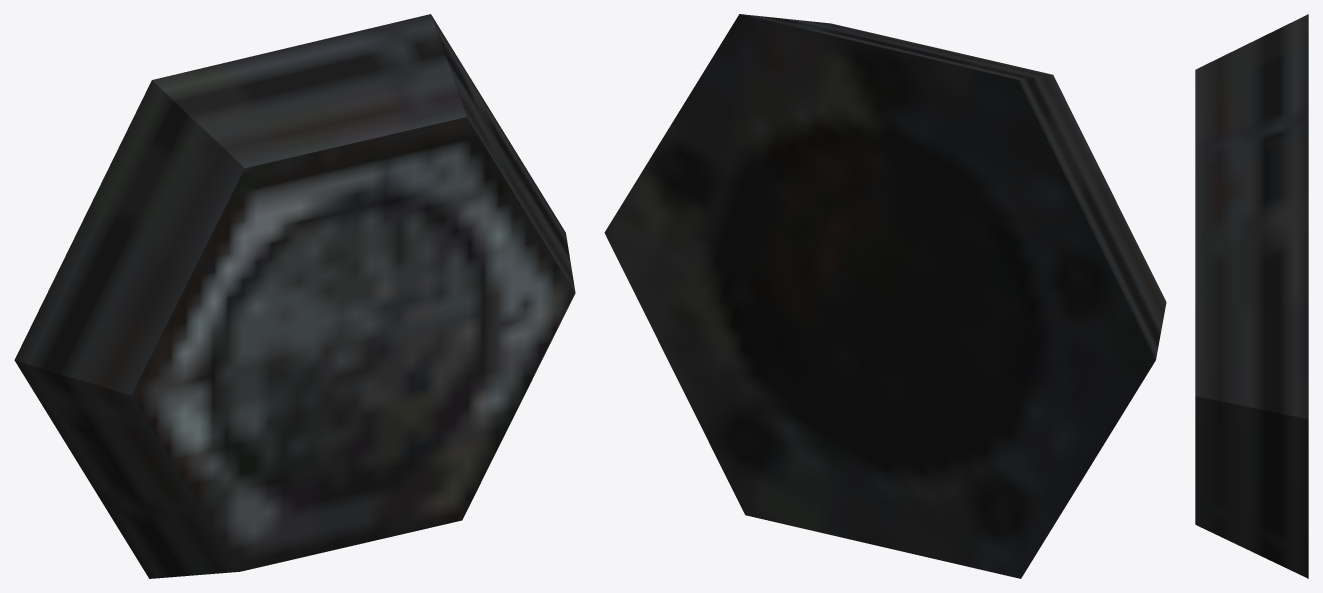
File: veh_t6_engine_part1_LOD0.obj
3 views of the same model, side by side, from view 1: azimuth 30°, elevation 25°; view 2: azimuth 150°, elevation 25°; view 3: azimuth 270°, elevation 25° (orthographic). The views are drawn at different scales.
Parts seen in each view (by area): view 1: mtl_engine_destroy; view 2: mtl_engine_destroy; view 3: mtl_engine_destroy.
Boxes of the visible parts, x1,y1,x2,y2 form: mtl_engine_destroy: [14, 14, 575, 578]; mtl_engine_destroy: [604, 14, 1166, 578]; mtl_engine_destroy: [1195, 14, 1308, 578].
Bounding box in the file's own units: 31.03 × 26.98 × 6.22.
